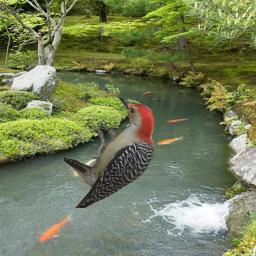Woodpecker: (64, 94, 158, 208)
